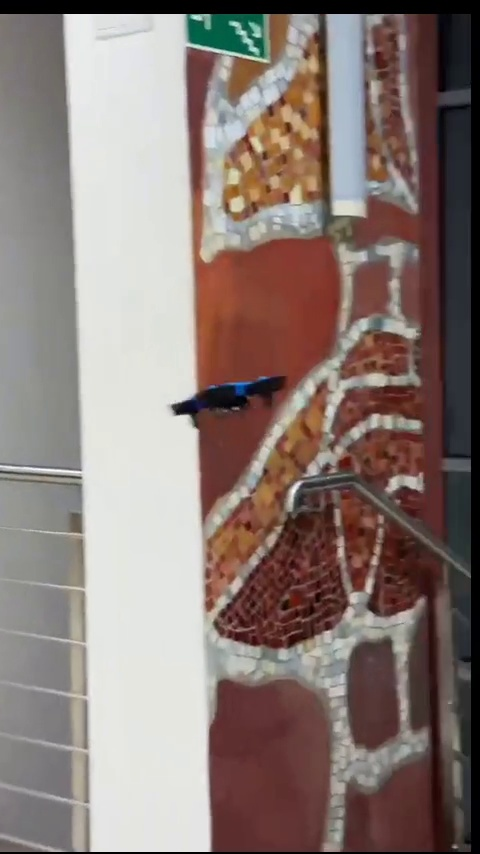drone: (177, 375, 286, 420)
